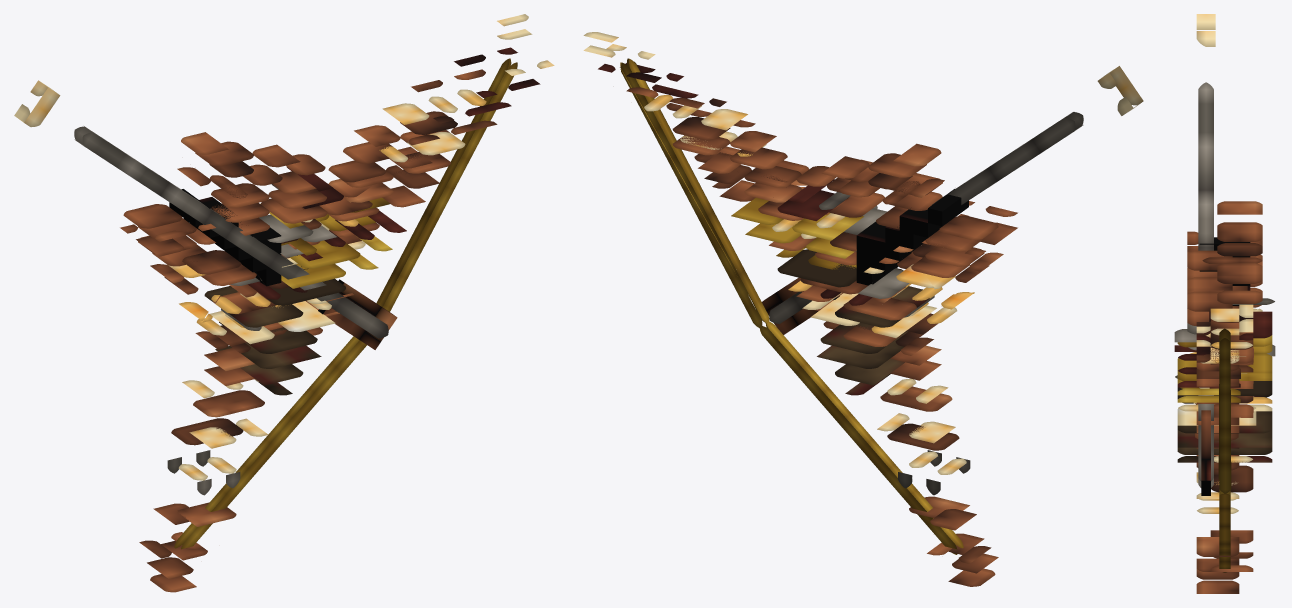
File: dragonbreath_bow_pulling_0.obj
3 views of the same model, side by side, from view 1: azimuth 30°, elevation 25°; view 2: azimuth 150°, elevation 25°; view 3: azimuth 270°, elevation 25° (orthographic). The views are drawn at different scales.
Parts seen in each view (by area): view 1: lit, fire; view 2: lit, fire; view 3: lit, fire.
Boxes of the visible parts, <box> form: lit: <box>14,14,554,592</box>; fire: <box>169,189,397,349</box>; lit: <box>583,32,1143,586</box>; fire: <box>762,189,968,334</box>; lit: <box>1174,14,1275,593</box>; fire: <box>1199,237,1250,495</box>.
Bounding box in the file's own units: 1.16 × 1.12 × 0.2096.
